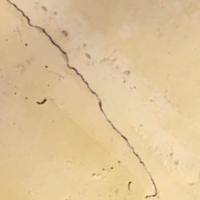crack: (4, 1, 141, 160)
